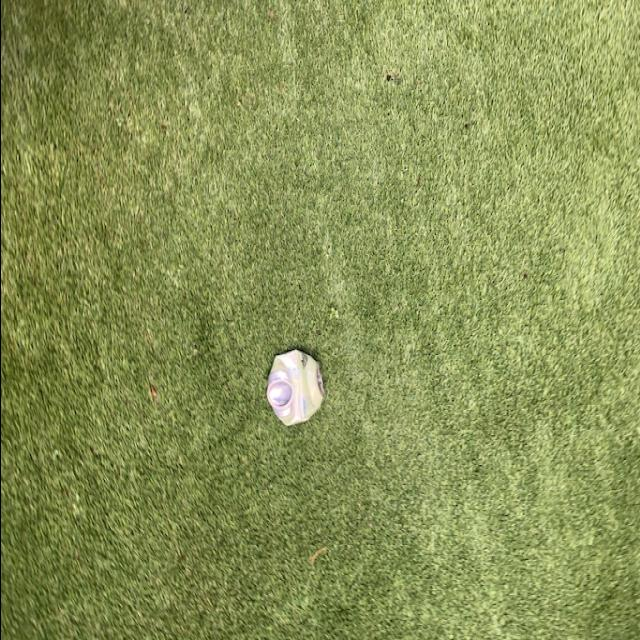Aluminum Can: (259, 347, 325, 432)
